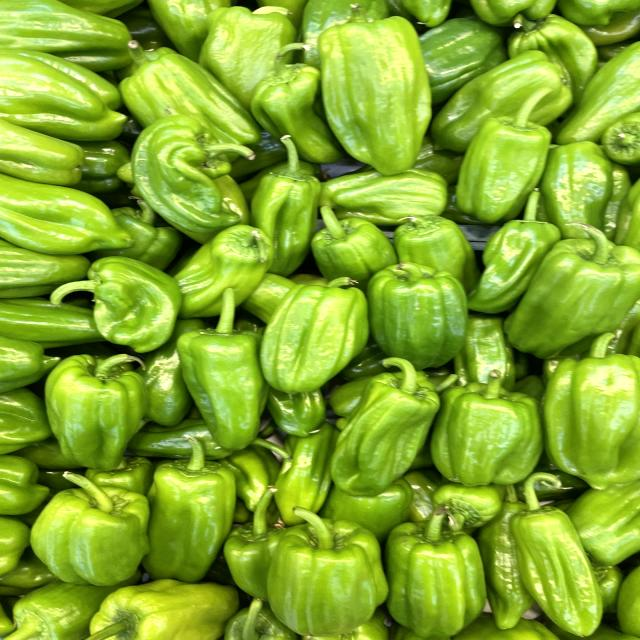bell pepper: (303, 3, 444, 176), (126, 424, 266, 578), (502, 218, 640, 359), (257, 504, 392, 639), (437, 83, 571, 219), (254, 266, 378, 395), (39, 344, 162, 471), (362, 255, 487, 376), (389, 498, 491, 640)
